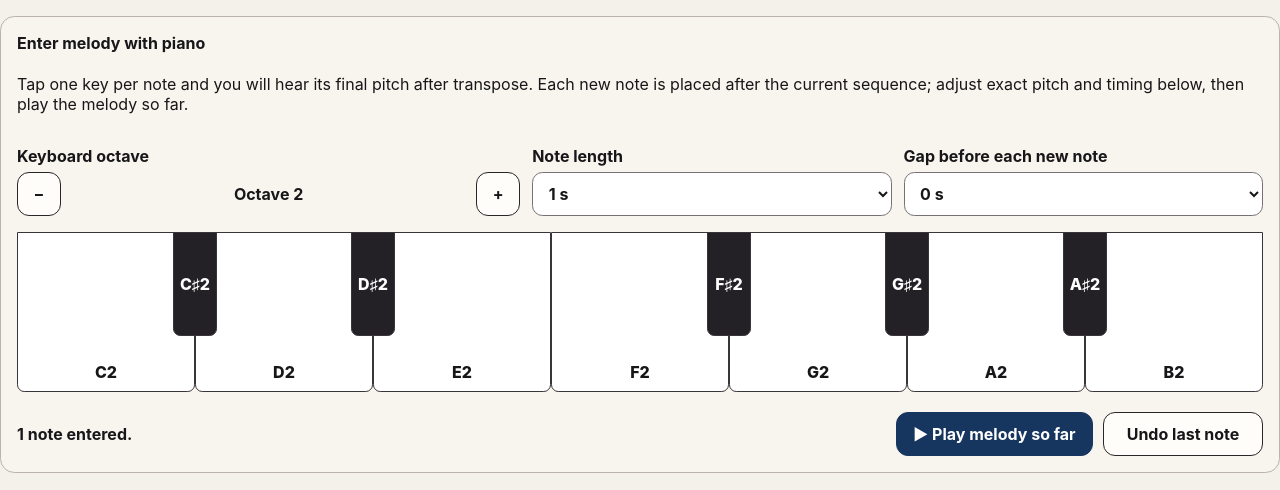
it: MelodyKeyboard › starts near the last entered pitch and changes octaves with accessible controls
Check: the element named "Piano keys, octave 2" is shown, box left=17, top=232, right=1263, bottom=392
Step 1. Click the button named "Add A2" → (996, 312), box left=907, top=232, right=1085, bottom=392
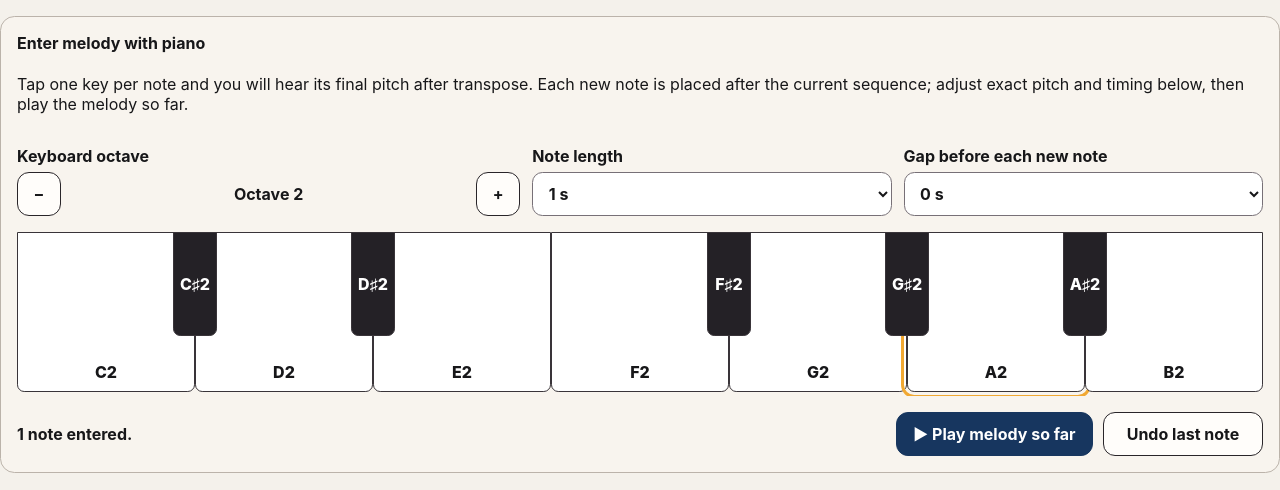
Step 2. Click the button named "Raise keyboard octave" → (498, 194), box left=476, top=172, right=520, bottom=216
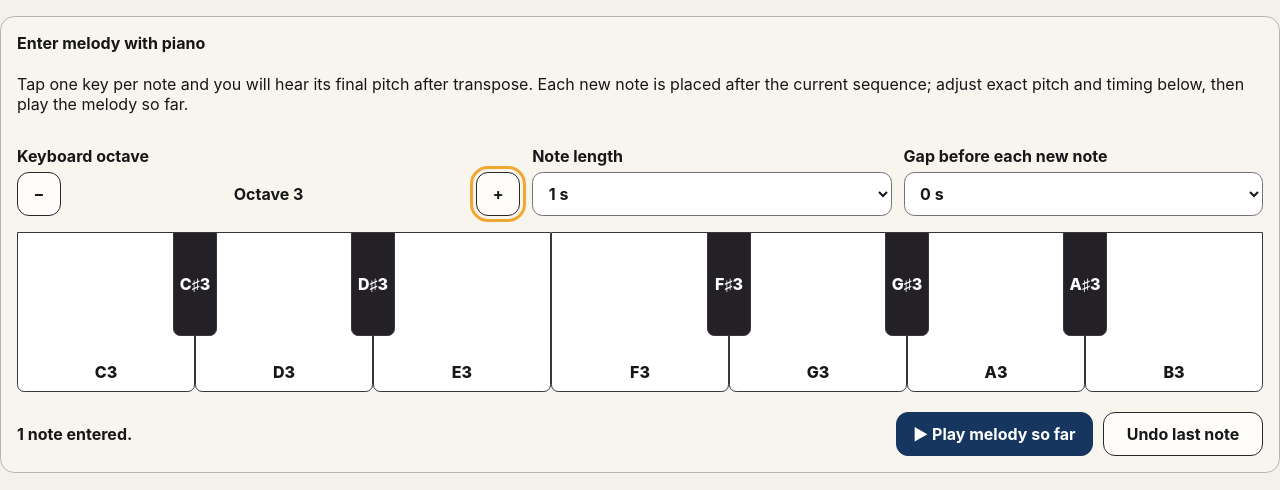
Check: the element named "Piano keys, octave 3" is shown, box left=17, top=232, right=1263, bottom=392
Step 3. Click the button named "Add A3" → (996, 312), box left=907, top=232, right=1085, bottom=392
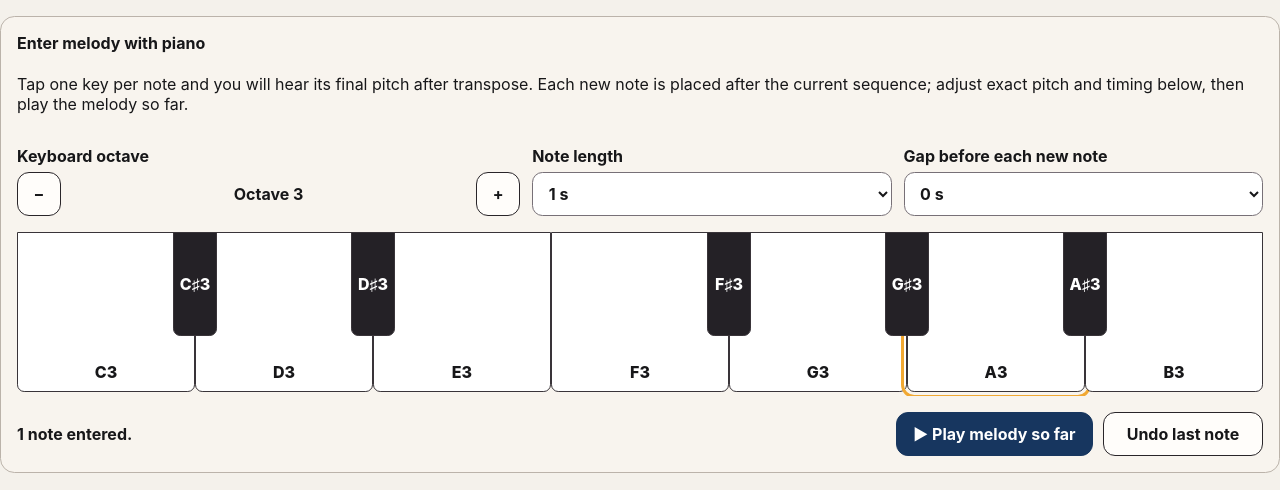
Step 4. Click the button named "Lower keyboard octave" → (39, 194), box left=17, top=172, right=61, bottom=216
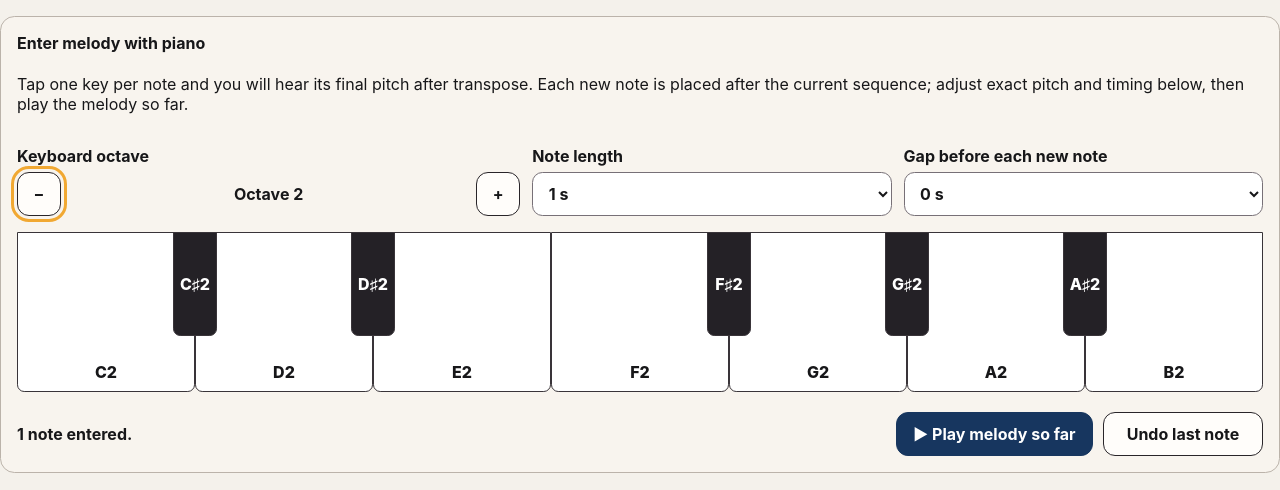
Check: the element named "Piano keys, octave 2" is shown, box left=17, top=232, right=1263, bottom=392
